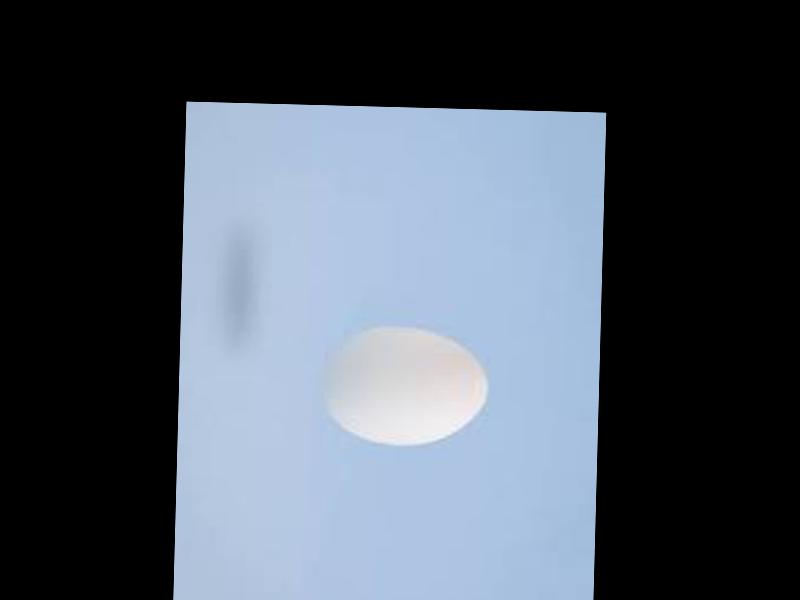Eggs: (319, 323, 490, 447)
